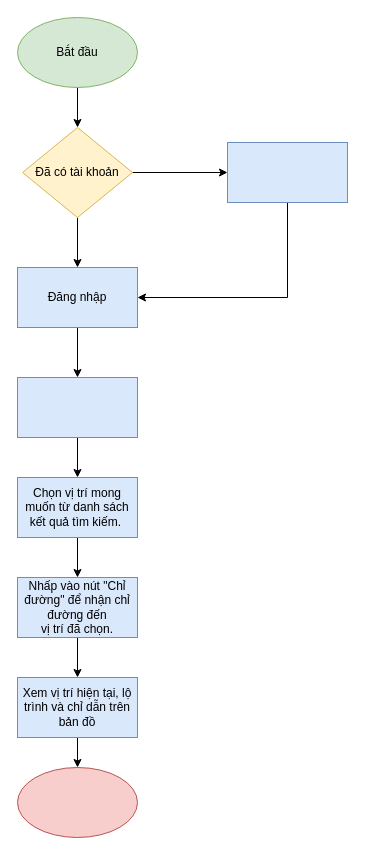
The diagram is 365 pixels wide and 855 high, and some of its shapes have lost their labels. Here are the shapes that lost their labels. From the top down, the centre of each, then its label:
(287,172): Đăng ký
(77,407): Nhập địa điểm trên thanh tìm kiếm
(77,802): Kết thúc
